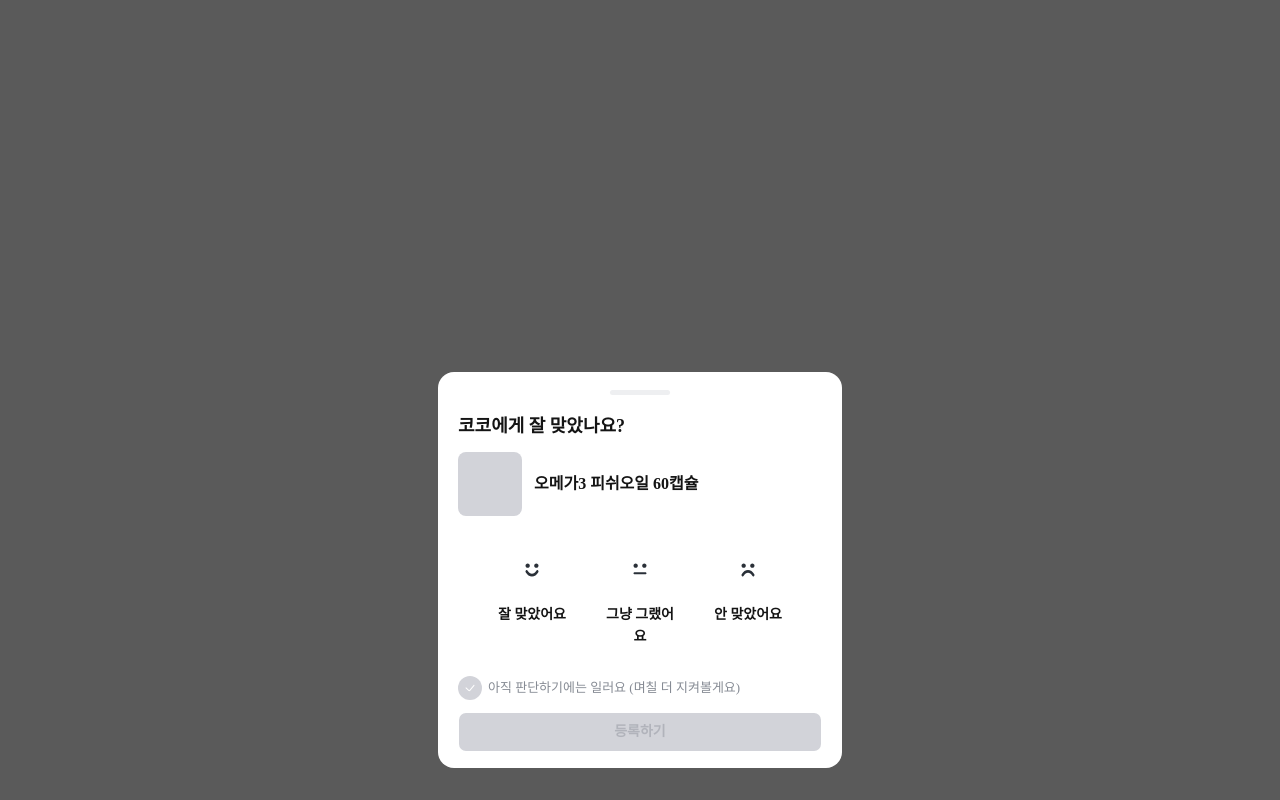
Scenario: 답을 고르고 등록하면 그 값으로 보내고 완료를 보인다
Click the radio button labelled "잘 맞았어요".
click(532, 596)  # box x1=494 y1=540 x2=570 y2=652
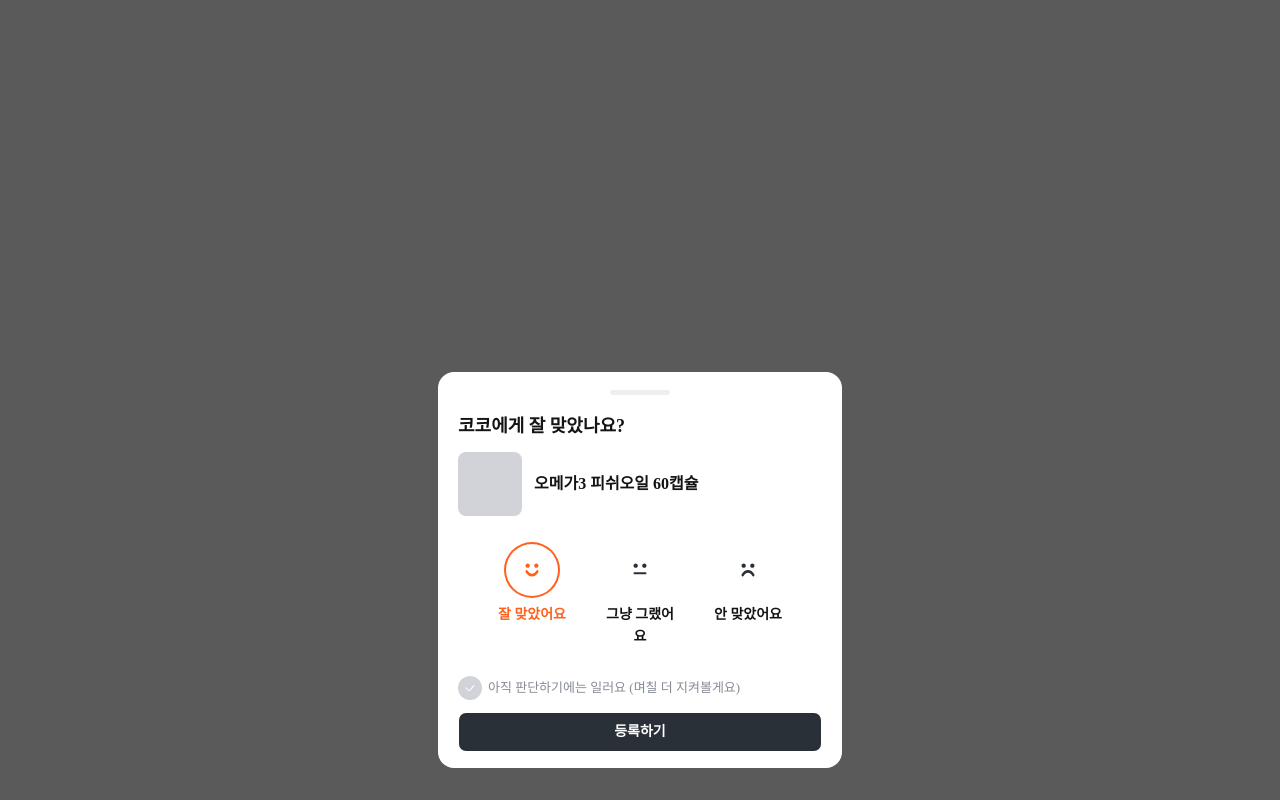
Click the button "등록하기".
click(640, 732)  # box x1=458 y1=712 x2=822 y2=752
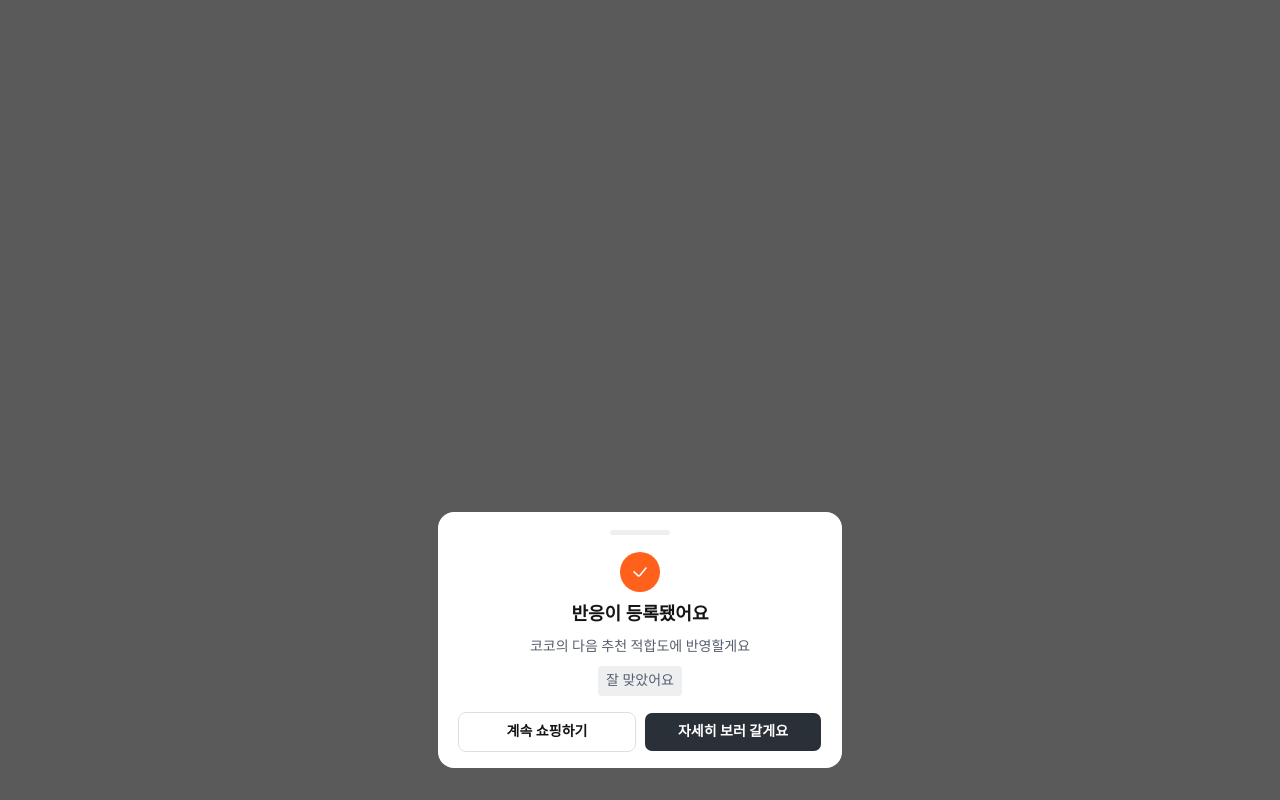
Expected: the heading "반응이 등록됐어요" is shown, x1=572 y1=600 x2=708 y2=628
Expected: the text "코코의 다음 추천 적합도에 반영할게요" is shown, x1=530 y1=636 x2=750 y2=658
